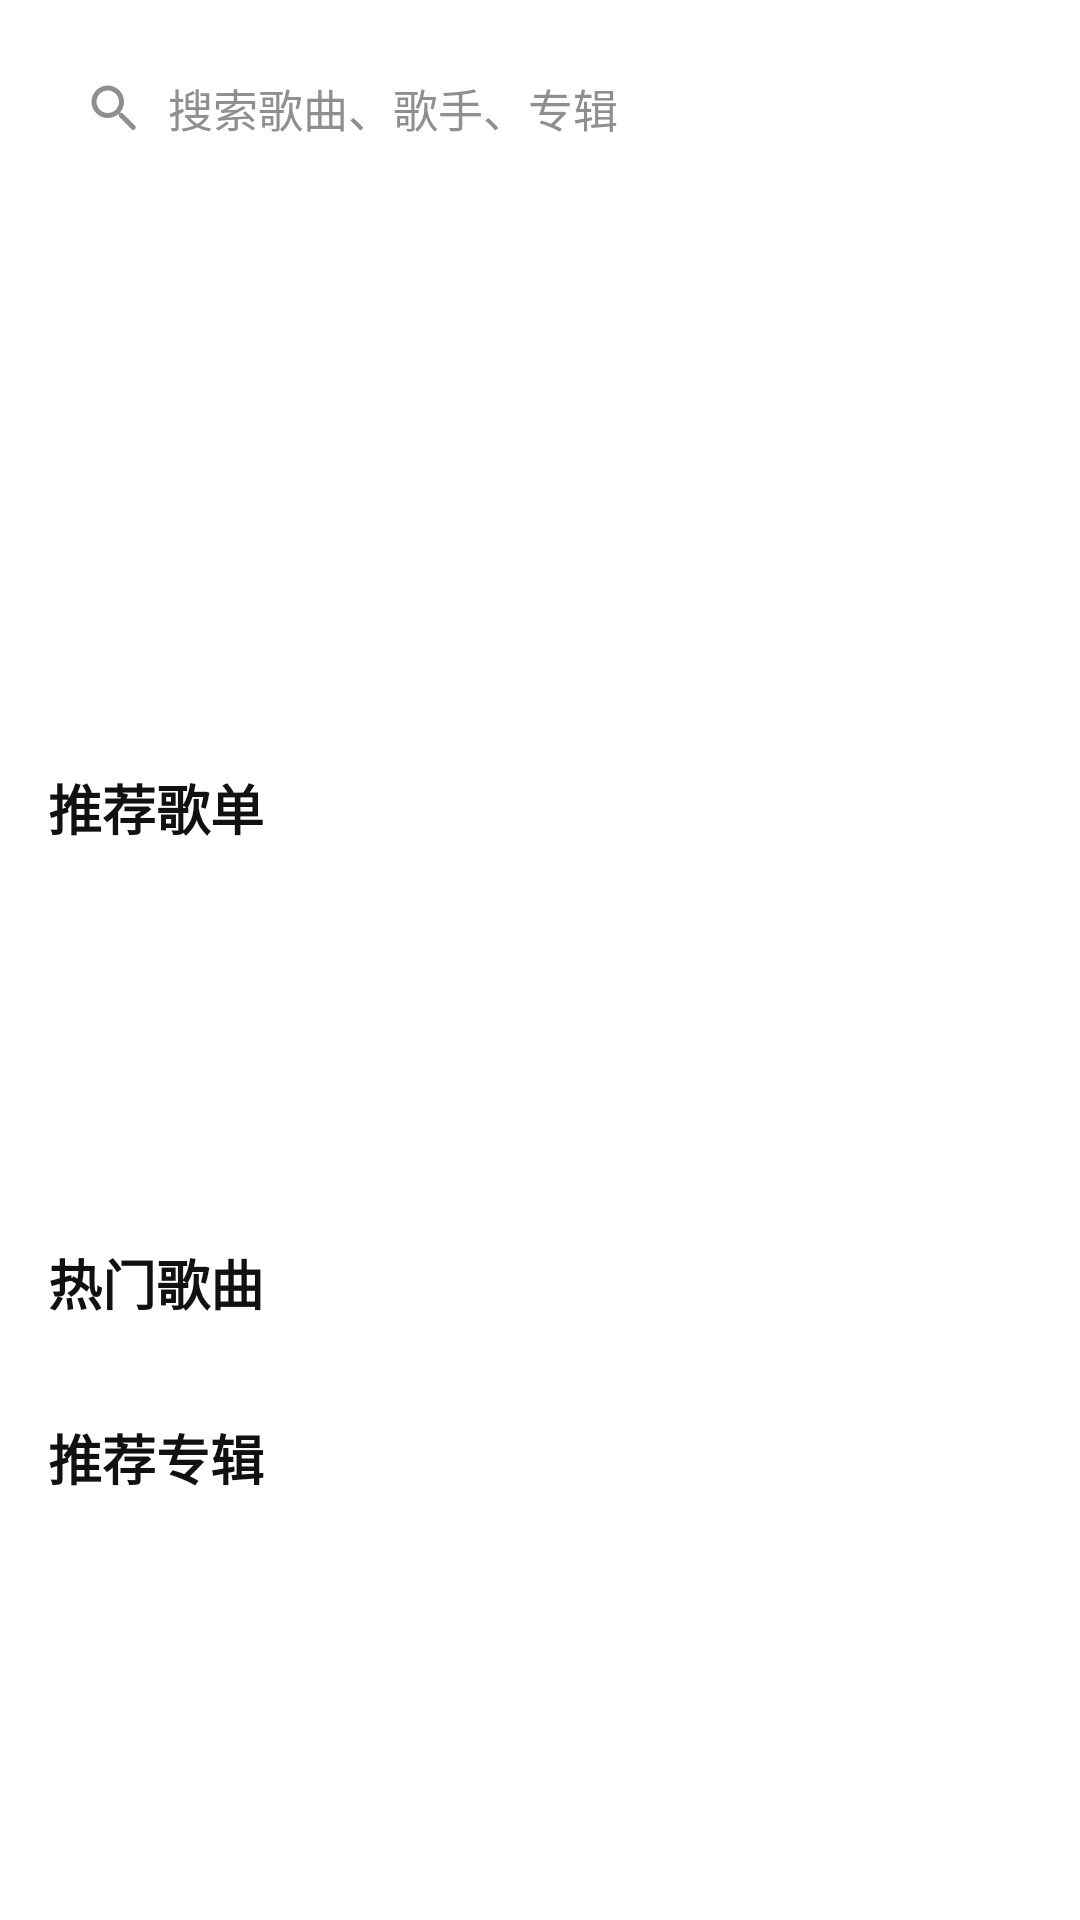

Icons on this 1080px x 1920px Android screen, each with the point to tap as [x,y]:
search: [113,107]
